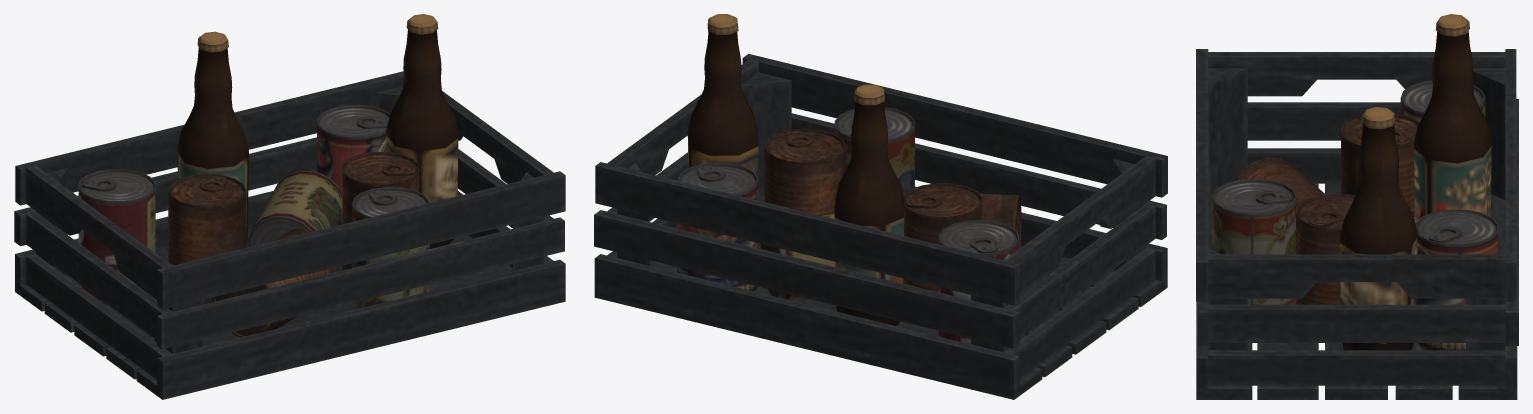
Rendered from supply_crate_1_4.obj.
3 views of the same model, side by side, from view 1: azimuth 30°, elevation 25°; view 2: azimuth 150°, elevation 25°; view 3: azimuth 270°, elevation 25° (orthographic). The views are drawn at different scales.
Visible parts, largest first — view 1: supply_crate_1_4; view 2: supply_crate_1_4; view 3: supply_crate_1_4.
Boxes of the visible parts, bbox=[...] form: supply_crate_1_4: bbox=[14, 14, 565, 399]; supply_crate_1_4: bbox=[594, 14, 1167, 399]; supply_crate_1_4: bbox=[1196, 14, 1518, 399].
Size of the model in its own units: 0.668 by 0.3725 by 0.4262.
